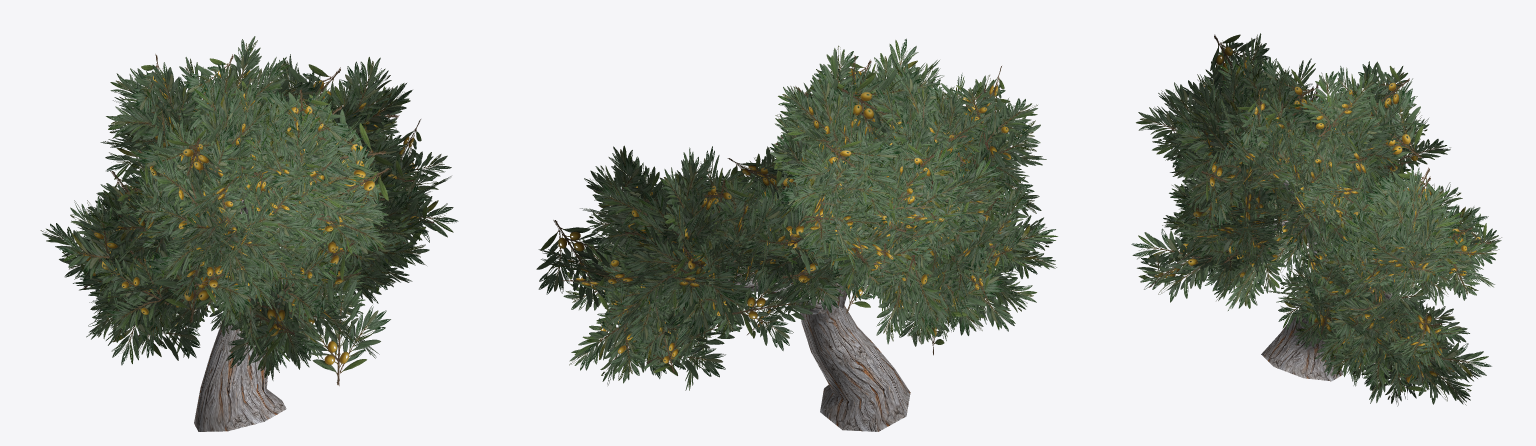
The model's file is nature-white-olive-sunleaf_v4.glb.
3 views of the same model, side by side, from view 1: azimuth 30°, elevation 25°; view 2: azimuth 150°, elevation 25°; view 3: azimuth 270°, elevation 25° (orthographic). The views are drawn at different scales.
Visible parts, largest first — view 1: nature-white-olive-sunleaf; view 2: nature-white-olive-sunleaf; view 3: nature-white-olive-sunleaf.
Part boxes in pixels (x1=…): nature-white-olive-sunleaf: x1=40, y1=36, x2=458, y2=431; nature-white-olive-sunleaf: x1=536, y1=38, x2=1057, y2=431; nature-white-olive-sunleaf: x1=1131, y1=33, x2=1501, y2=406.
Size of the model in its own units: 6.48 by 4.73 by 5.29.
Materials: 2 (2 with a texture image).
